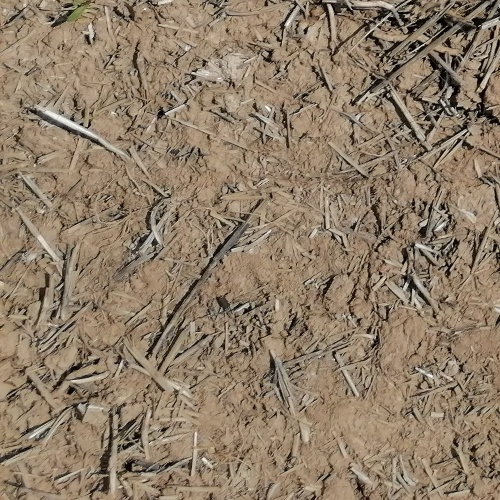beet: (65, 0, 95, 23)
